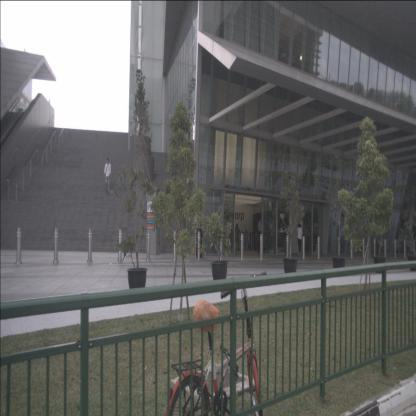human-pedestrian-adult: (104, 158, 112, 195), (257, 218, 263, 254), (297, 223, 303, 256), (235, 223, 240, 251)
vehicle-bicycle: (165, 271, 267, 415)
